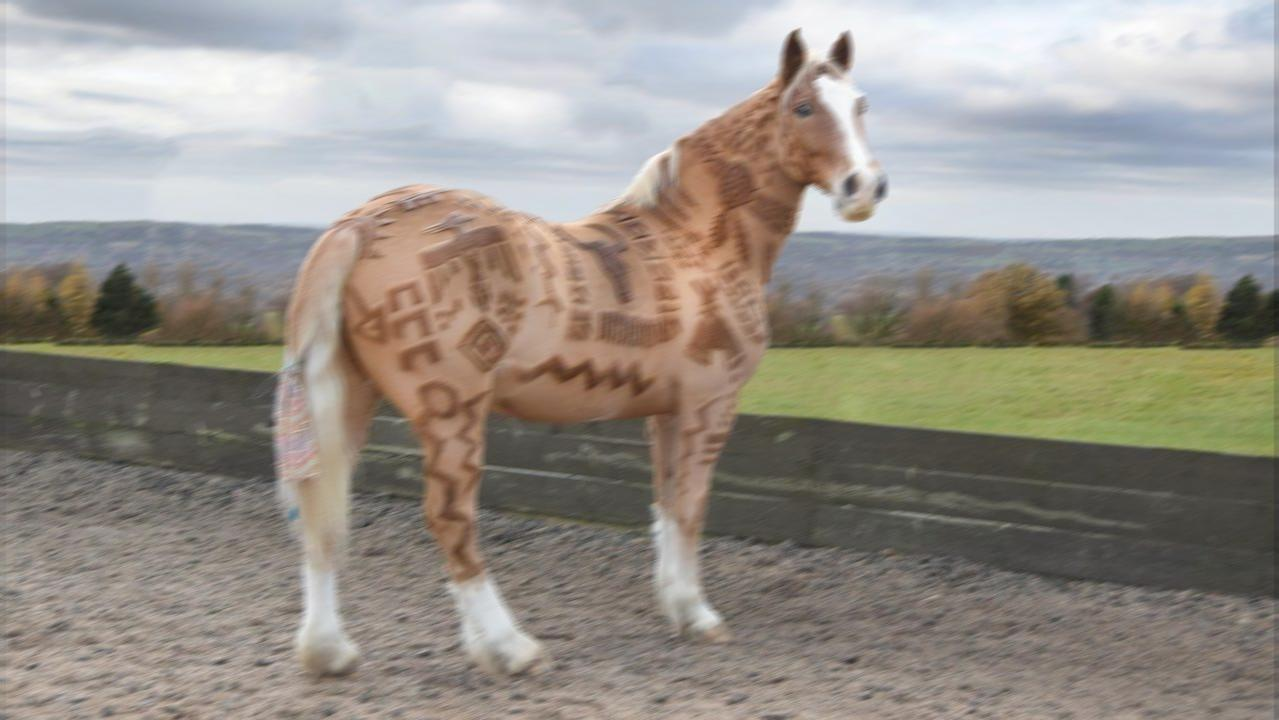horse: (262, 17, 896, 686)
